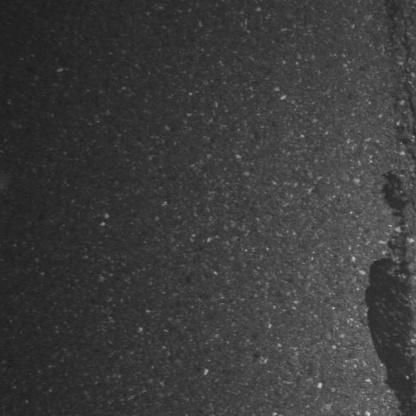Cracks: (386, 7, 416, 416)
